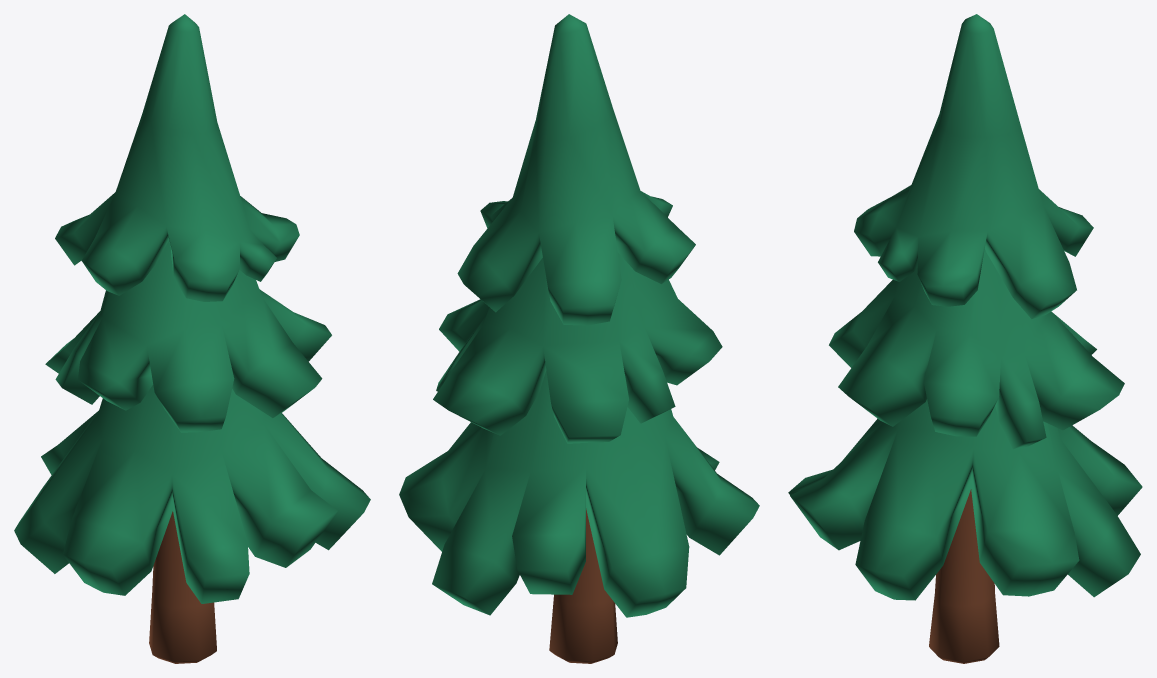
Rendered from Pine_02_LOD2.gltf.
3 renders of one model, left to right at view 1: azimuth 30°, elevation 25°; view 2: azimuth 150°, elevation 25°; view 3: azimuth 270°, elevation 25°, orthographic.
Visible parts, largest first — view 1: Pine_02_LOD2_Cylinder.758; view 2: Pine_02_LOD2_Cylinder.758; view 3: Pine_02_LOD2_Cylinder.758.
Boxes of the visible parts, x1,y1,x2,y2 form: Pine_02_LOD2_Cylinder.758: [14, 14, 370, 663]; Pine_02_LOD2_Cylinder.758: [399, 14, 759, 663]; Pine_02_LOD2_Cylinder.758: [788, 14, 1142, 663].
Bounding box in the file's own units: 6.29 × 12.93 × 6.48.
1 material, 1 textured.
